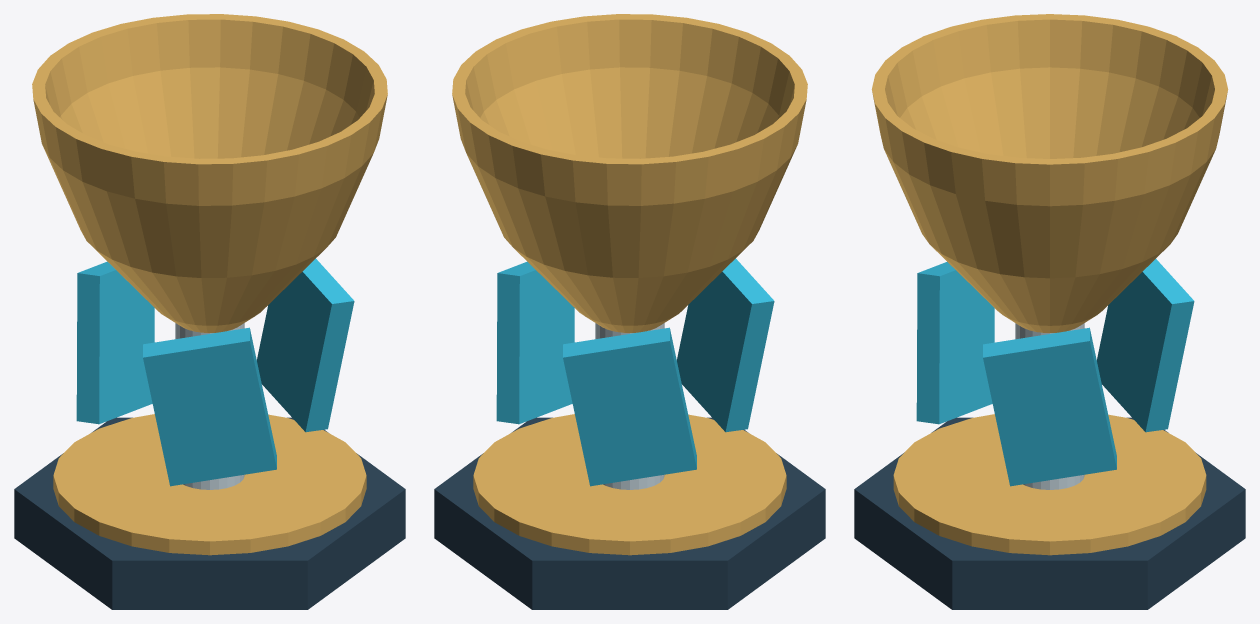
File: circuit-cup.glb
The picture shows the model from 3 angles, left to right: view 1: azimuth 30°, elevation 25°; view 2: azimuth 150°, elevation 25°; view 3: azimuth 270°, elevation 25°; orthographic projection.
Parts seen in each view (by area): view 1: Original_Trophy_Brushed_champagne, Original_Trophy_Enamel_cyan, Original_Trophy_Hexagonal_slate, Original_Trophy_Machined_silver; view 2: Original_Trophy_Brushed_champagne, Original_Trophy_Enamel_cyan, Original_Trophy_Hexagonal_slate, Original_Trophy_Machined_silver; view 3: Original_Trophy_Brushed_champagne, Original_Trophy_Enamel_cyan, Original_Trophy_Hexagonal_slate, Original_Trophy_Machined_silver.
Part boxes in pixels (x1,y1,x2,y2): Original_Trophy_Brushed_champagne: (32, 14, 387, 555); Original_Trophy_Enamel_cyan: (76, 258, 354, 486); Original_Trophy_Hexagonal_slate: (14, 417, 405, 609); Original_Trophy_Machined_silver: (175, 323, 244, 489); Original_Trophy_Brushed_champagne: (452, 14, 807, 555); Original_Trophy_Enamel_cyan: (496, 258, 774, 486); Original_Trophy_Hexagonal_slate: (434, 417, 825, 609); Original_Trophy_Machined_silver: (595, 323, 664, 489); Original_Trophy_Brushed_champagne: (871, 14, 1228, 555); Original_Trophy_Enamel_cyan: (916, 259, 1194, 486); Original_Trophy_Hexagonal_slate: (854, 417, 1245, 609); Original_Trophy_Machined_silver: (1015, 323, 1084, 489).
Size of the model in its own units: 1.64 by 2.28 by 1.8.
